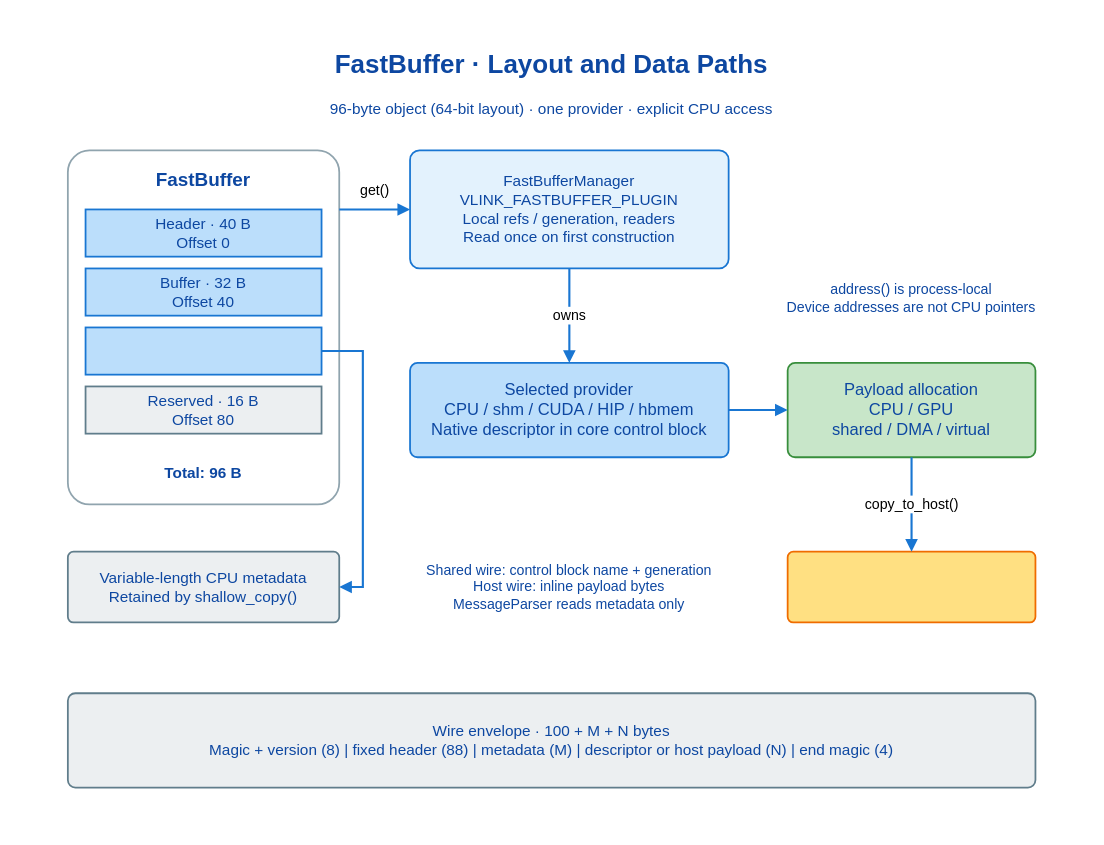
The diagram is 1104 pixels wide and 845 high, and some of its shapes have lost their labels. The box of each missing label's shape, as (x1, y1, x2, y2) in pixels:
CPU Bytes Explicit host access: (786, 550, 1036, 623)
Metadata pointer · 8 B Offset 72: (84, 326, 322, 375)
